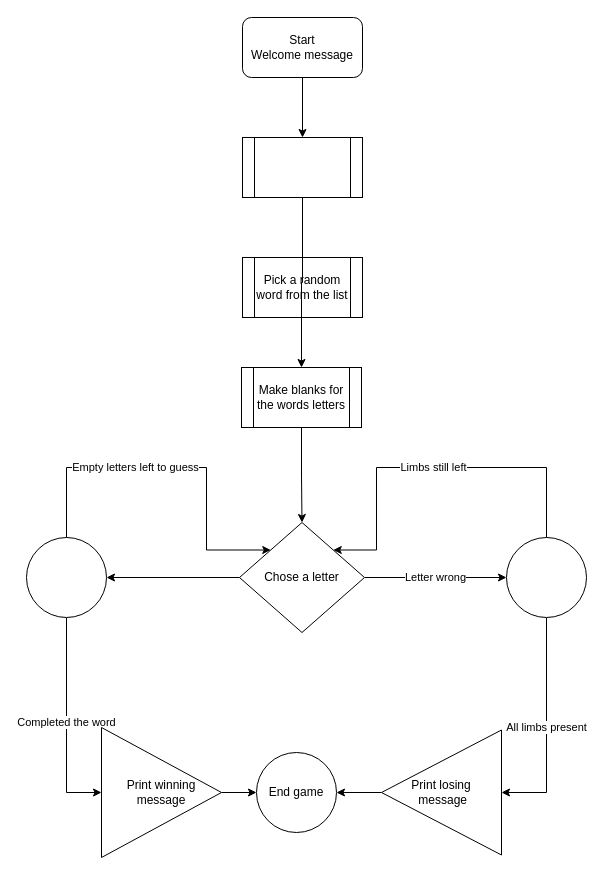
The diagram is 604 pixels wide and 875 high, and some of its shapes have lost their labels. The shapes that lost their labels are listed below. From the top down, each one's centre as x and y in pixels, then its label:
the point at 302,167: Generate a random word list
the point at 66,577: Add letter
the point at 546,577: Add a limb
